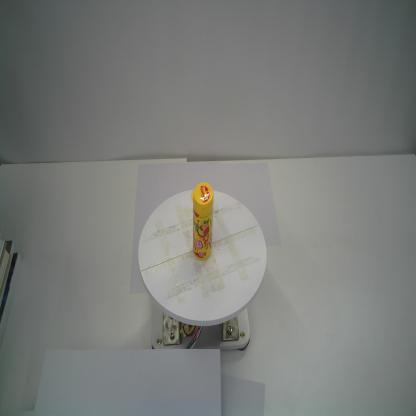Candy: (191, 182, 214, 260)
